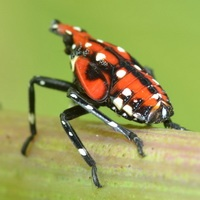insect: (21, 20, 185, 186)
